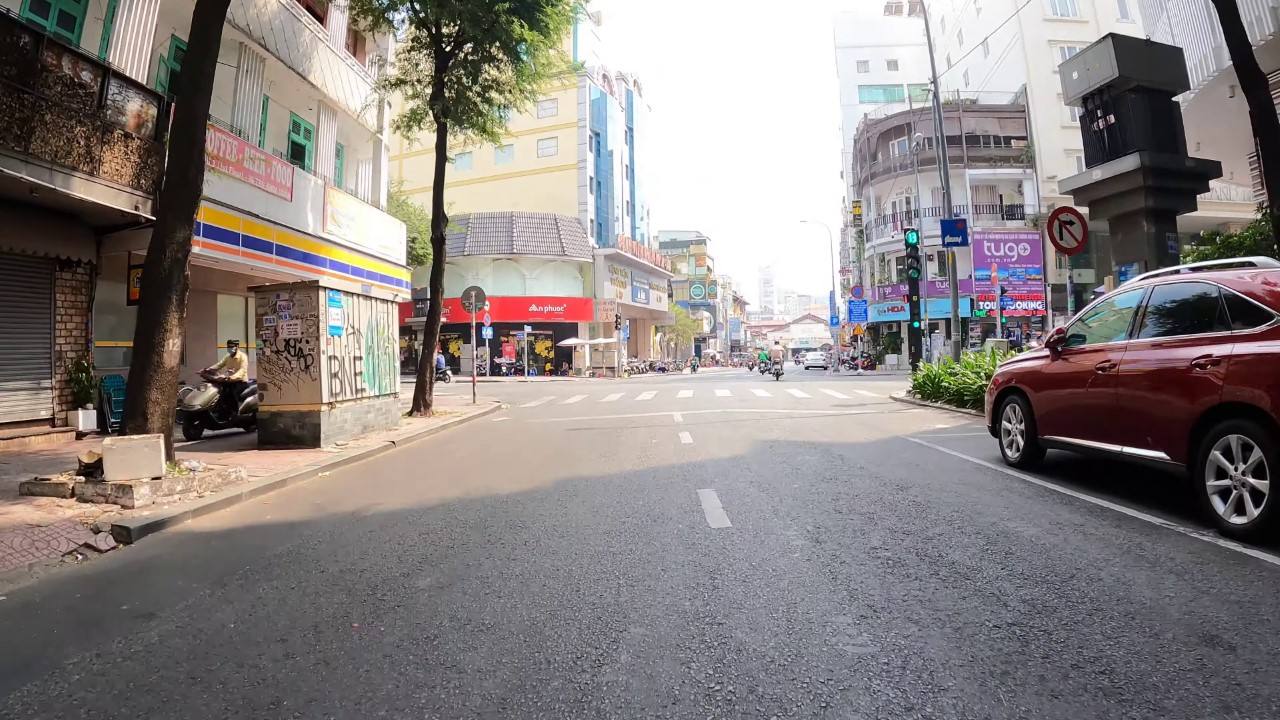cam_re_phai: (1044, 202, 1089, 258)
